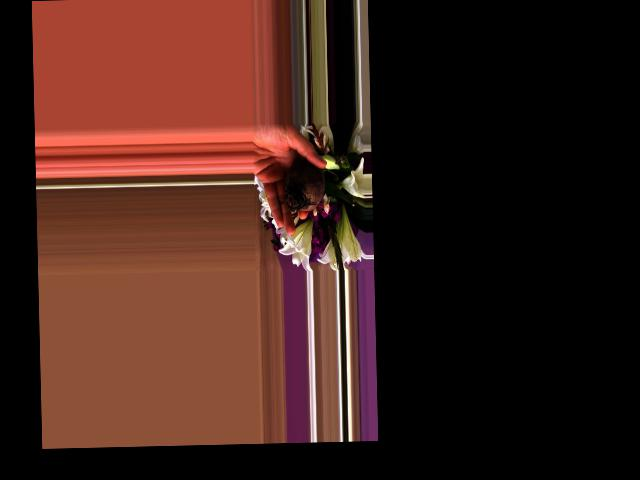beet: (283, 158, 337, 212)
